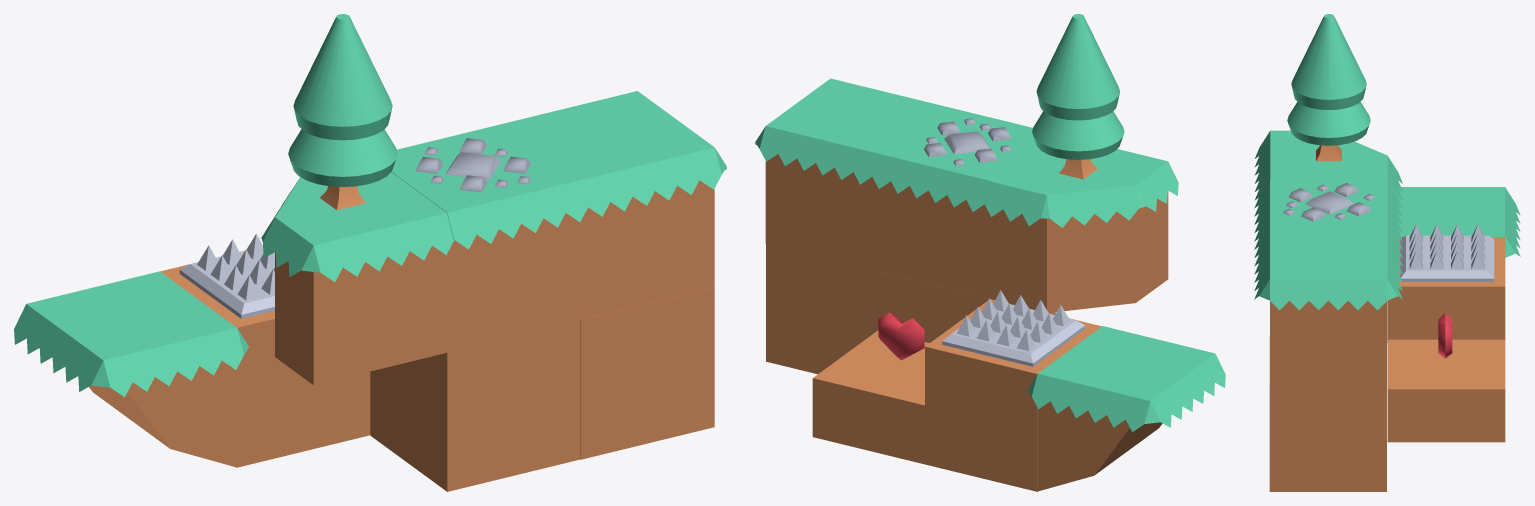
Rendered from island-3.obj.
3 views of the same model, side by side, from view 1: azimuth 30°, elevation 25°; view 2: azimuth 150°, elevation 25°; view 3: azimuth 270°, elevation 25° (orthographic). The views are drawn at different scales.
Visible parts, largest first — view 1: blockLong, blockCornerSmall, blockCliff, blockDirt, treePineSmall, blockDirtHalf.004, blockDirtHalf.003, blockDirtHalf, spikes, blockDirtHalf.002, stones; view 2: blockLong, blockCornerSmall, blockCliff, blockDirtHalf.001, treePineSmall, blockDirtHalf.002, blockDirtHalf, blockDirtHalf.004, spikes, blockDirtHalf.003, blockDirt, stones (+1 smaller); view 3: blockLong, blockDirtHalf.001, treePineSmall, blockDirtHalf.002, blockDirtHalf.004, blockDirtHalf.003, blockCliff, blockCornerSmall, spikes, stones, heart.
Boxes of the visible parts, <box> form: blockLong: <box>391,91,726,352</box>; blockCornerSmall: <box>261,172,454,385</box>; blockCliff: <box>14,271,248,467</box>; blockDirt: <box>370,320,580,491</box>; treePineSmall: <box>288,14,397,210</box>; blockDirtHalf.004: <box>580,287,714,389</box>; blockDirtHalf.003: <box>580,357,714,459</box>; blockDirtHalf: <box>236,371,370,467</box>; spikes: <box>179,233,274,318</box>; blockDirtHalf.002: <box>160,264,306,397</box>; stones: <box>415,138,530,192</box>; blockLong: <box>755,78,1037,298</box>; blockCornerSmall: <box>984,147,1178,312</box>; blockCliff: <box>1028,326,1225,491</box>; blockDirtHalf.001: <box>812,330,929,464</box>; treePineSmall: <box>1032,14,1124,179</box>; blockDirtHalf.002: <box>925,299,1101,432</box>; blockDirtHalf: <box>925,405,1037,491</box>; blockDirtHalf.004: <box>766,244,877,329</box>; spikes: <box>942,290,1085,366</box>; blockDirtHalf.003: <box>766,303,877,374</box>; blockDirt: <box>878,271,1055,342</box>; stones: <box>924,118,1011,165</box>; blockLong: <box>1254,180,1402,385</box>; blockDirtHalf.001: <box>1388,339,1505,442</box>; treePineSmall: <box>1287,14,1370,161</box>; blockDirtHalf.002: <box>1388,237,1505,339</box>; blockDirtHalf.004: <box>1269,336,1386,438</box>; blockDirtHalf.003: <box>1269,438,1386,491</box>; blockCliff: <box>1387,187,1520,342</box>; blockCornerSmall: <box>1254,130,1402,200</box>; spikes: <box>1400,224,1494,281</box>; stones: <box>1283,183,1375,221</box>; heart: <box>1438,313,1452,358</box>.
Size of the model in its own units: 4.26 by 3.31 by 2.27.
